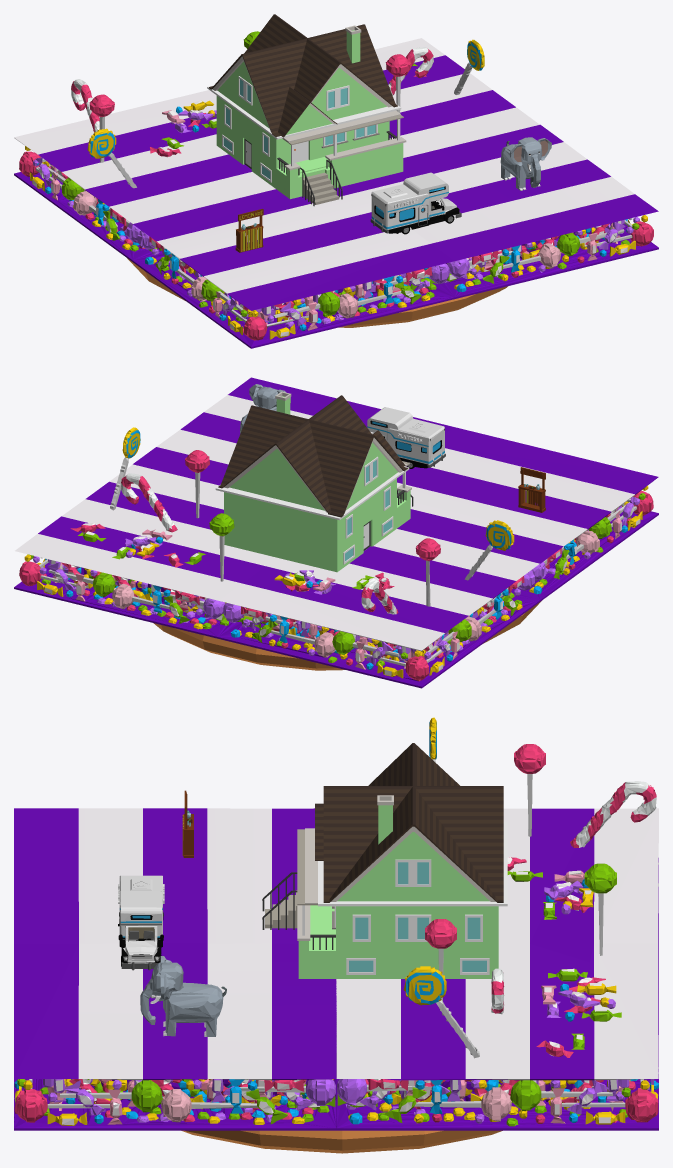
3 renders of one model, top to bottom at view 1: azimuth 30°, elevation 25°; view 2: azimuth 150°, elevation 25°; view 3: azimuth 270°, elevation 25°, orthographic. The views are drawn at different scales.
Parts seen in each view (by area): view 1: TERRAIN_CANDY, Cube.274, VEHICLES_CAMPER, ANIMAL_ELEFANTE, UNDERGROUND_PIZZA, OBJRANDOM_LEMONADE_STAND; view 2: TERRAIN_CANDY, Cube.274, VEHICLES_CAMPER, UNDERGROUND_PIZZA, OBJRANDOM_LEMONADE_STAND, ANIMAL_ELEFANTE; view 3: TERRAIN_CANDY, Cube.274, UNDERGROUND_PIZZA, VEHICLES_CAMPER, ANIMAL_ELEFANTE.
Part boxes in pixels (box(x1,y1,x2,y2)): TERRAIN_CANDY: box(14, 31, 658, 348); Cube.274: box(207, 14, 406, 206); VEHICLES_CAMPER: box(370, 172, 461, 234); ANIMAL_ELEFANTE: box(500, 137, 551, 190); UNDERGROUND_PIZZA: box(127, 258, 507, 327); OBJRANDOM_LEMONADE_STAND: box(235, 209, 263, 252); TERRAIN_CANDY: box(14, 377, 658, 688); Cube.274: box(215, 391, 413, 572); VEHICLES_CAMPER: box(367, 407, 445, 468); UNDERGROUND_PIZZA: box(153, 601, 541, 670); OBJRANDOM_LEMONADE_STAND: box(518, 467, 545, 512); ANIMAL_ELEFANTE: box(240, 384, 290, 433); TERRAIN_CANDY: box(14, 717, 658, 1130); Cube.274: box(262, 743, 507, 978); UNDERGROUND_PIZZA: box(181, 1130, 502, 1153); VEHICLES_CAMPER: box(118, 875, 164, 970); ANIMAL_ELEFANTE: box(140, 956, 226, 1036).
Bounding box in the file's own units: 4059 × 1796 × 4000.
38 materials, 2 textured.
